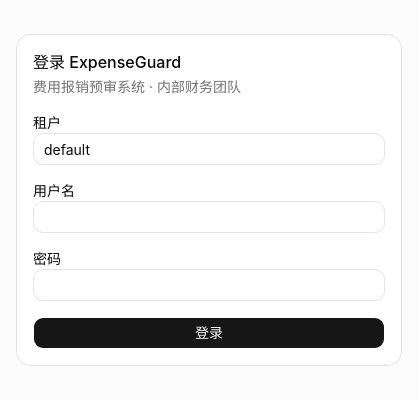
Test: LoginPage › 登录失败时显示错误且不跳转
Type "alice" into the field labelled "用户名".
click(209, 217); type("alice")  # box x1=33 y1=201 x2=385 y2=233
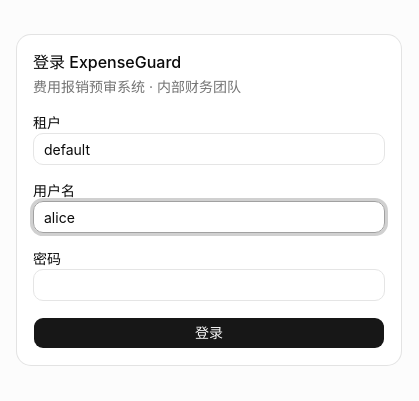
Type "wrong" into the password field labelled "密码".
click(209, 285); type("wrong")  # box x1=33 y1=269 x2=385 y2=301
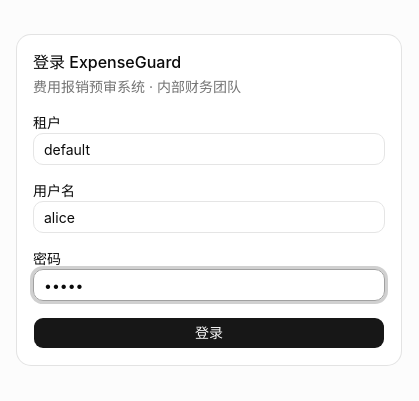
Click the button "登录".
click(209, 333)  # box x1=33 y1=317 x2=385 y2=349
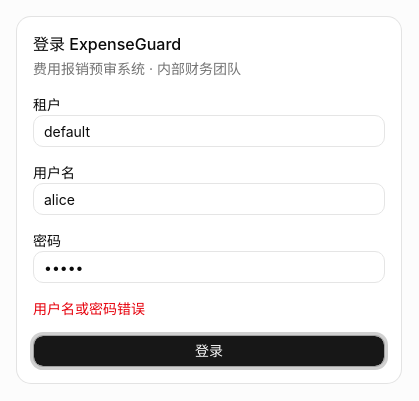
Now the message reads "用户名或密码错误", box x1=33 y1=300 x2=145 y2=317
